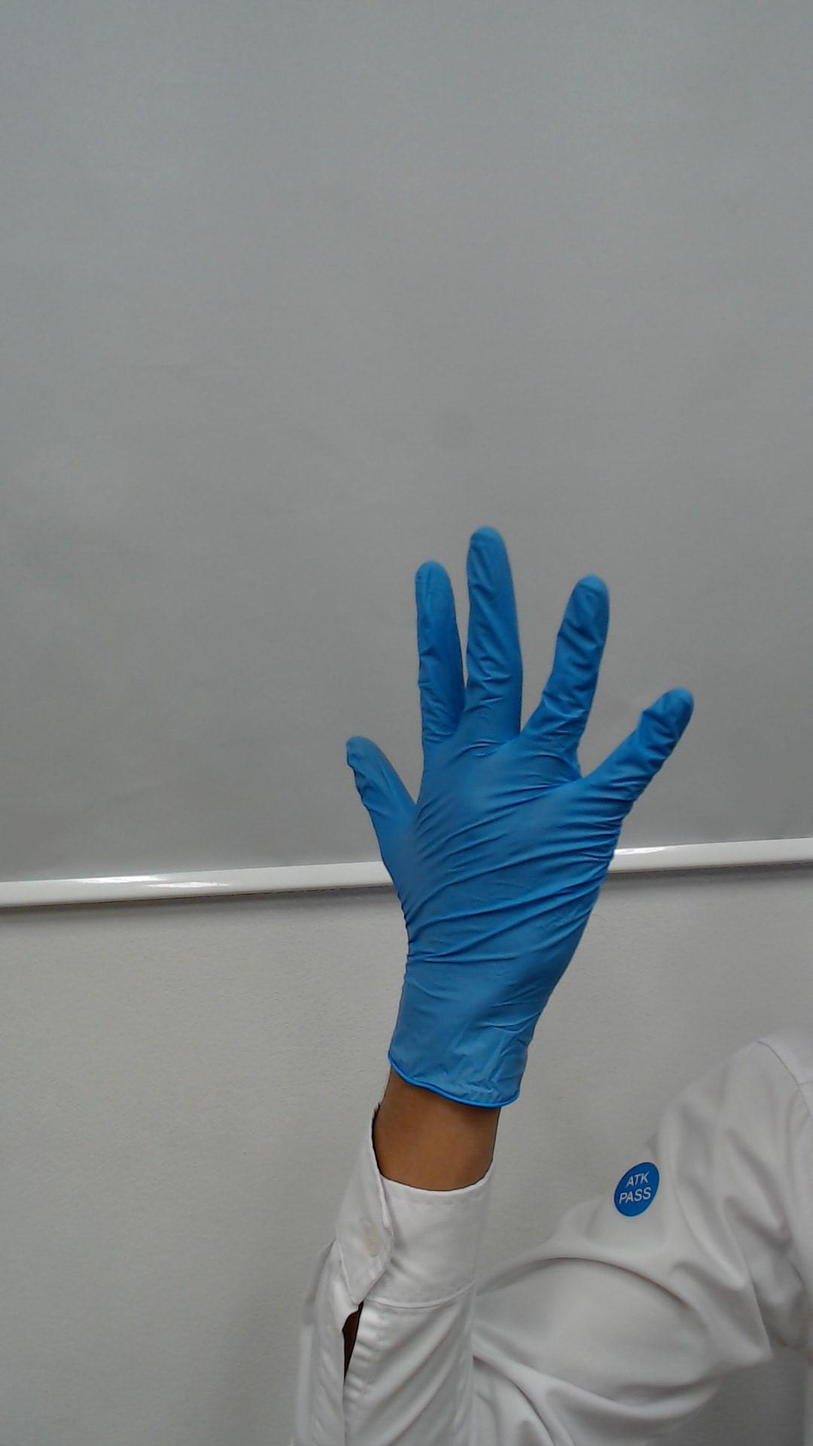gloves: (317, 500, 725, 983)
